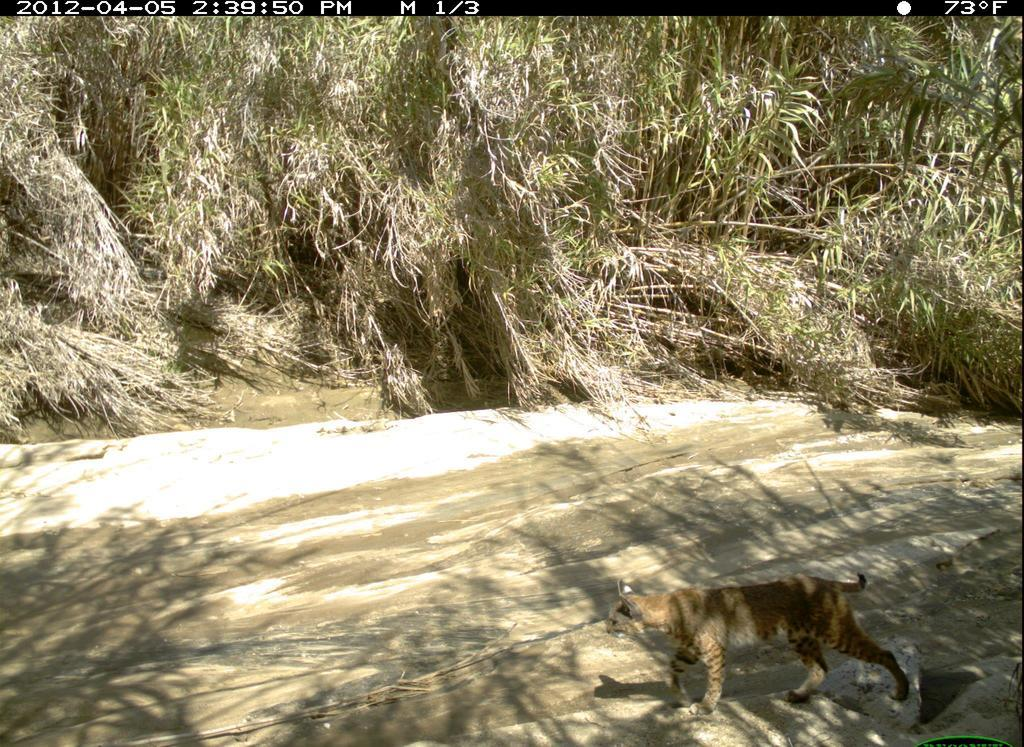bobcat: (583, 551, 939, 724)
